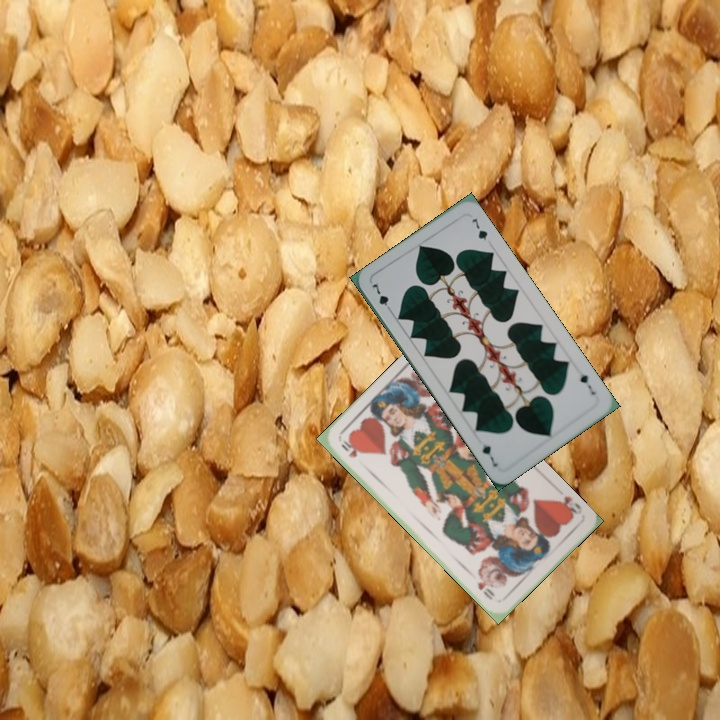G7: (368, 279, 395, 316), (575, 366, 598, 397)
HO: (552, 492, 584, 521), (337, 435, 360, 460)
